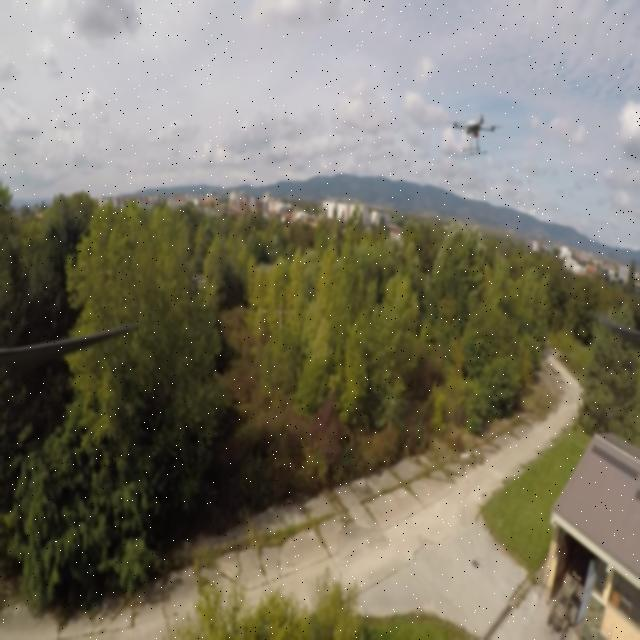UAV: (444, 106, 504, 160)
